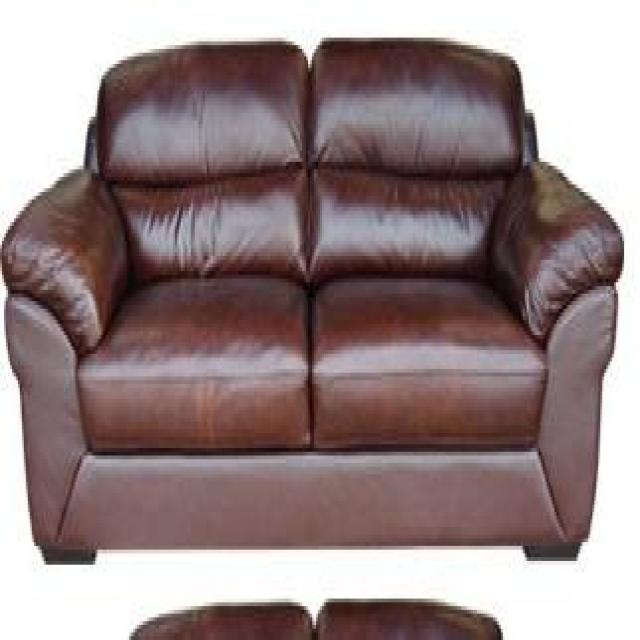sofa: (0, 30, 622, 557)
